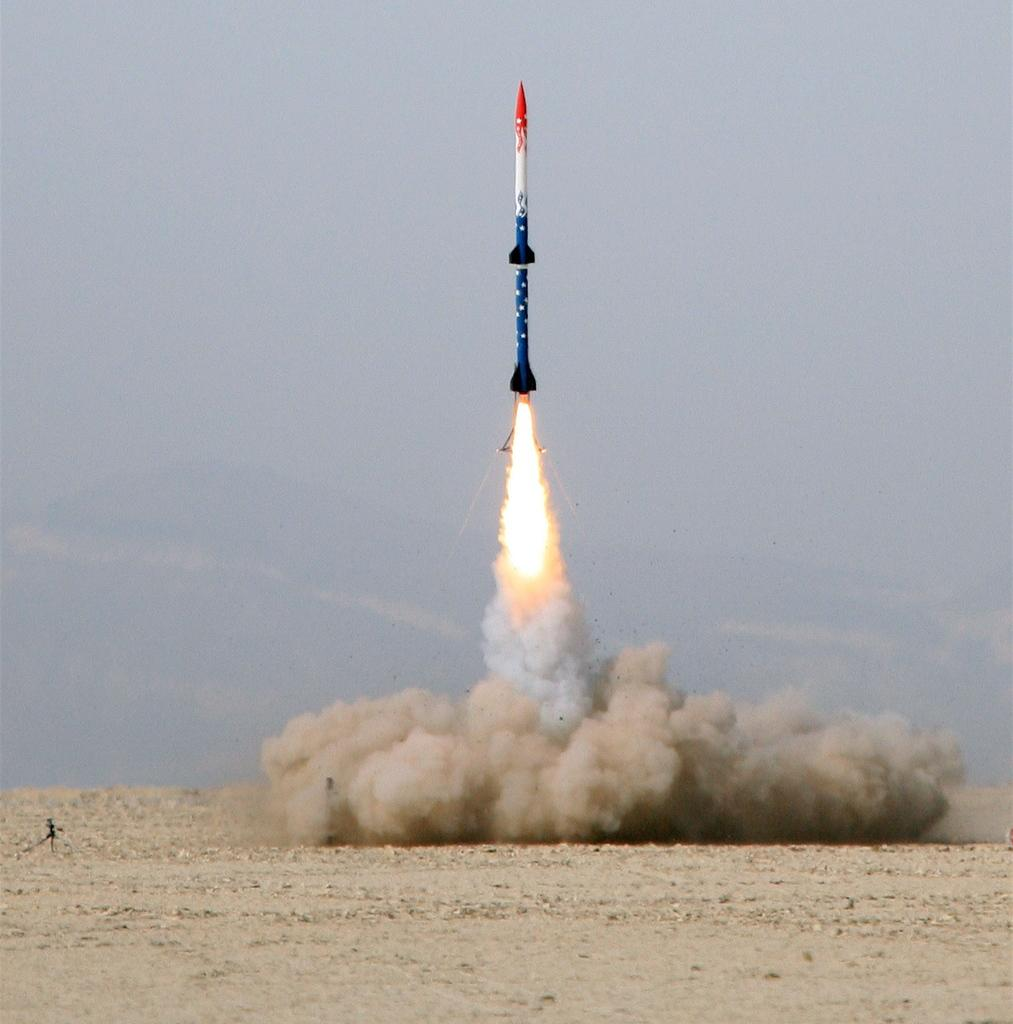Missile: (504, 86, 537, 394)
